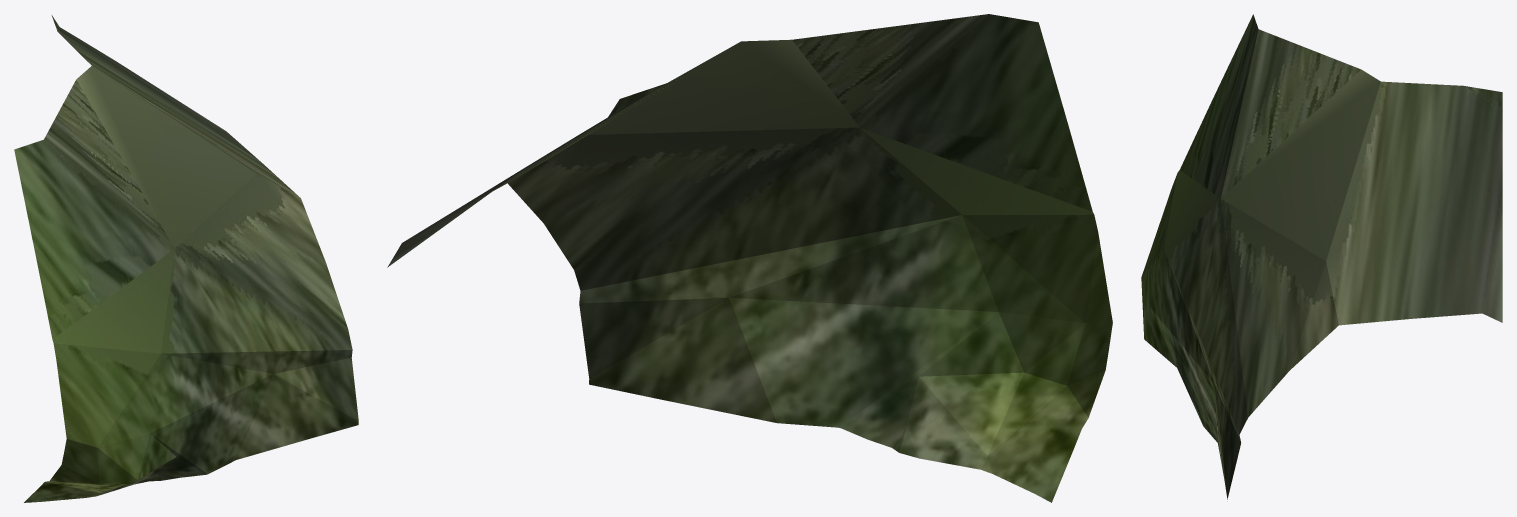
3 views of the same model, side by side, from view 1: azimuth 30°, elevation 25°; view 2: azimuth 150°, elevation 25°; view 3: azimuth 270°, elevation 25° (orthographic). The views are drawn at different scales.
Bounding box in the file's own units: 2.95 × 2.95 × 2.9.
3 materials, 3 textured.
